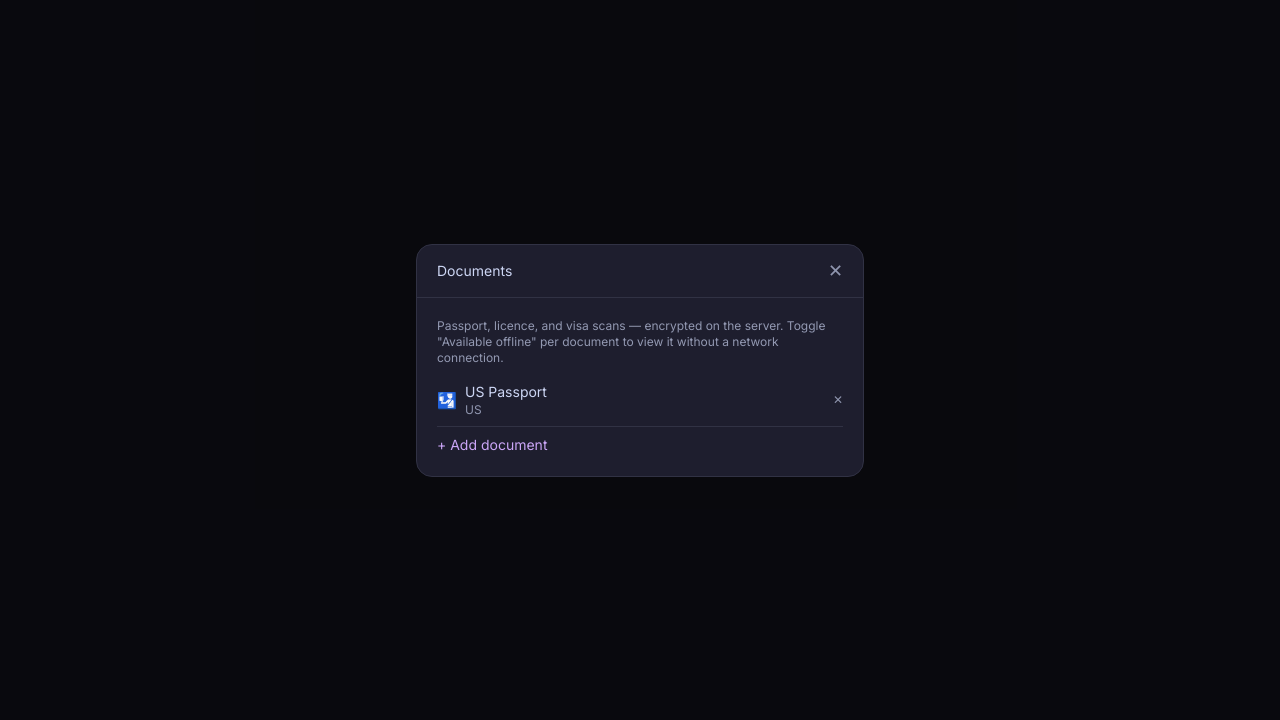
Test: Passport scan › shows a "Scan passport" button only for image files
This screenshot has width=1280, height=720.
Click the text "US Passport". click: (506, 391)
box: [465, 382, 547, 400]
(page scrolled)
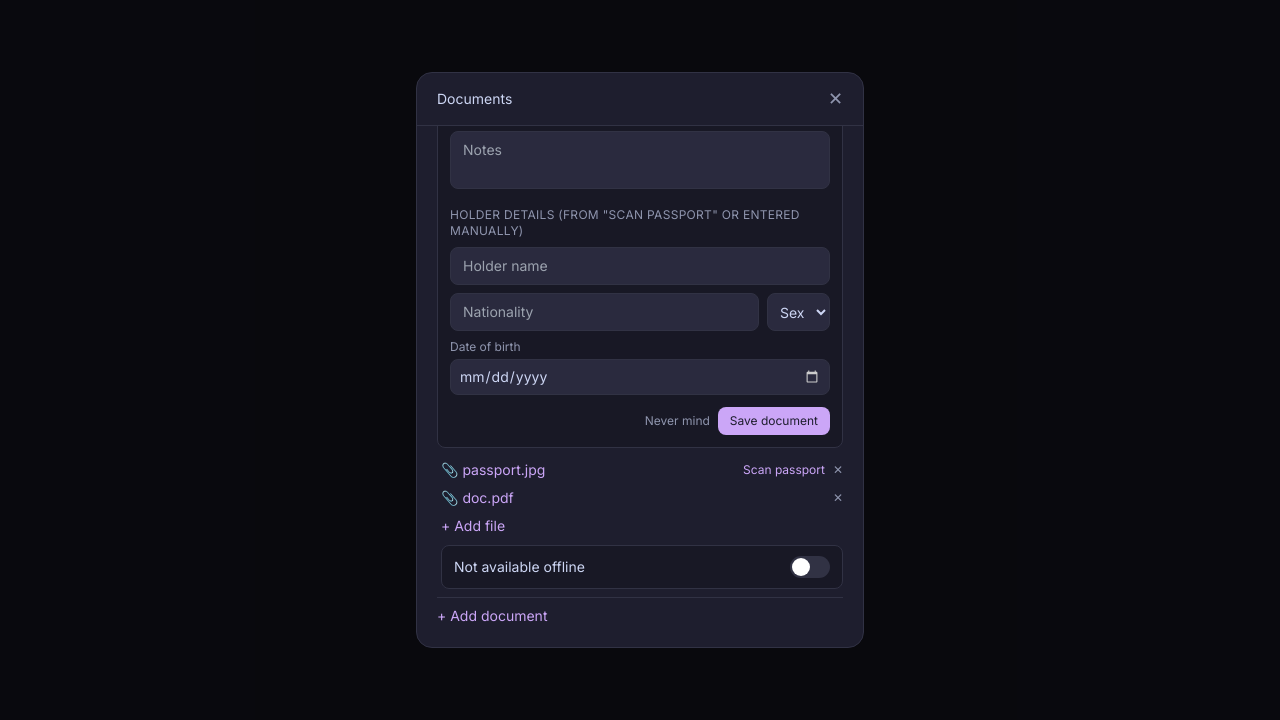
Check: the button "Save document" is shown, box [718, 407, 830, 435]
Check: the button "📎 passport.jpg" is shown, box [441, 460, 735, 480]
Check: the number of buttons "Scan passport" is 1, box [743, 462, 825, 478]
